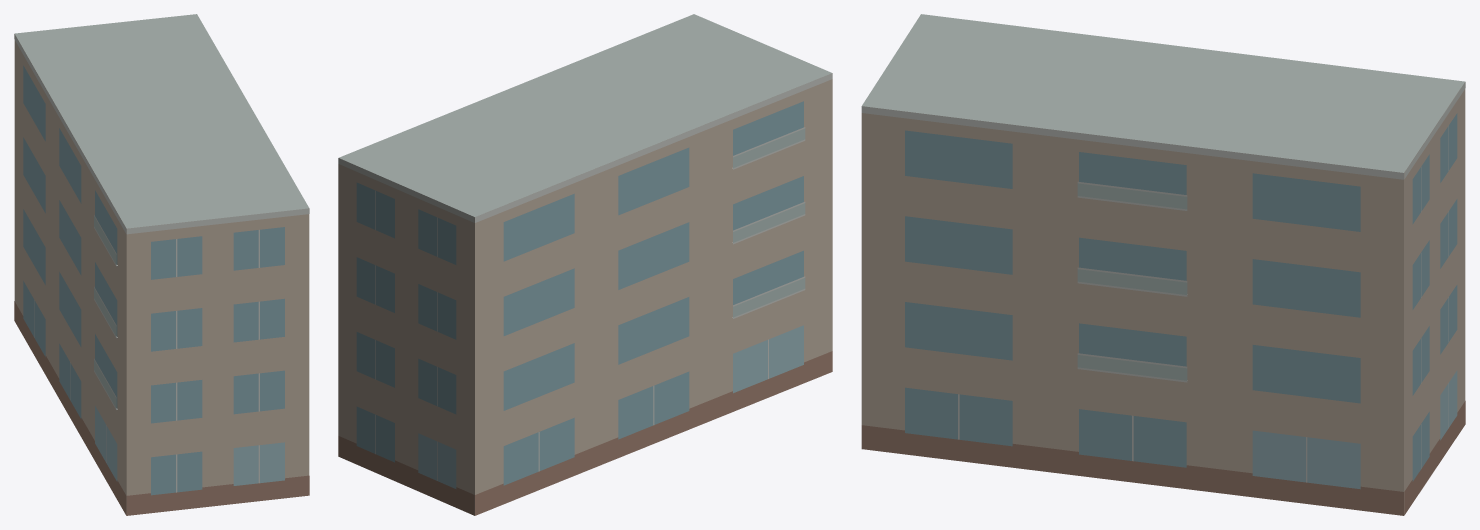
Rendered from survey-upis-32917203.glb.
3 views of the same model, side by side, from view 1: azimuth 30°, elevation 25°; view 2: azimuth 150°, elevation 25°; view 3: azimuth 270°, elevation 25° (orthographic). The views are drawn at different scales.
Visible parts, largest first — view 1: survey-upis-32917203.tmp; view 2: survey-upis-32917203.tmp; view 3: survey-upis-32917203.tmp.
Boxes of the visible parts, x1,y1,x2,y2 form: survey-upis-32917203.tmp: (14,14,309,515); survey-upis-32917203.tmp: (338,14,832,515); survey-upis-32917203.tmp: (861,14,1465,515).
Bounding box in the file's own units: 12.14 × 12.2 × 19.48.
